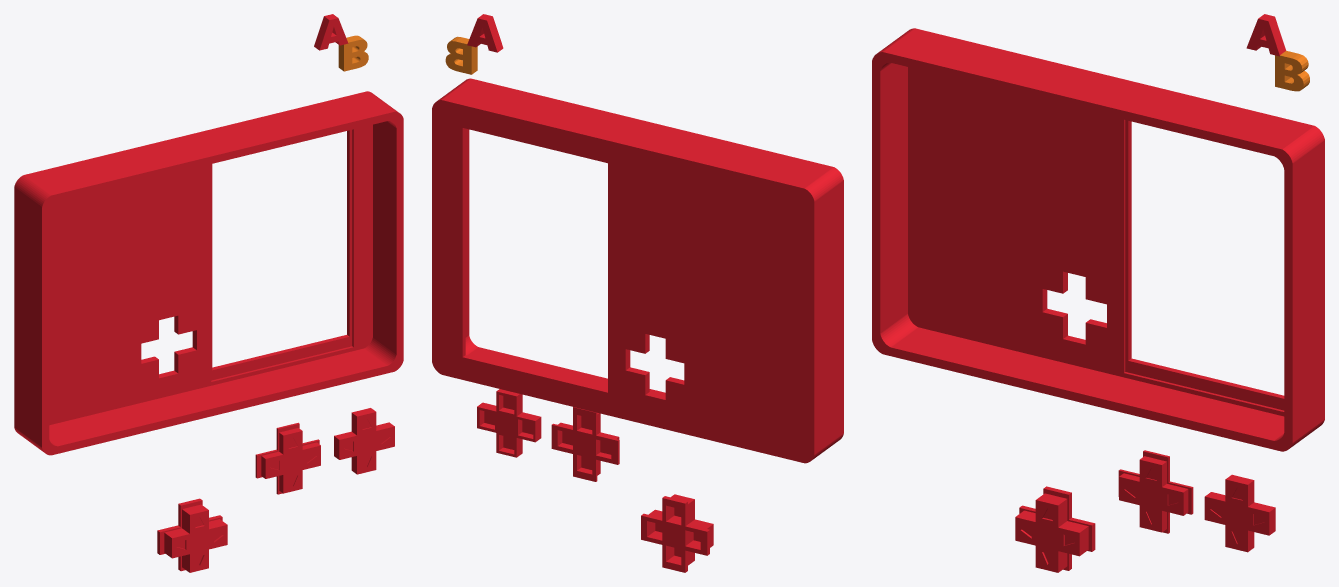
File: tinker.obj
3 views of the same model, side by side, from view 1: azimuth 30°, elevation 25°; view 2: azimuth 150°, elevation 25°; view 3: azimuth 330°, elevation 25° (orthographic). The views are drawn at different scales.
Parts seen in each view (by area): view 1: group_0_15277357, group_0_16089887; view 2: group_0_15277357, group_0_16089887; view 3: group_0_15277357, group_0_16089887.
Part boxes in pixels (box(x1,y1,x2,y2)): group_0_15277357: box(14, 14, 403, 572); group_0_16089887: box(338, 35, 368, 71); group_0_15277357: box(432, 14, 843, 572); group_0_16089887: box(445, 36, 477, 74); group_0_15277357: box(872, 14, 1324, 572); group_0_16089887: box(1275, 50, 1309, 91).
Bounding box in the file's own units: 150 × 197 × 24.
